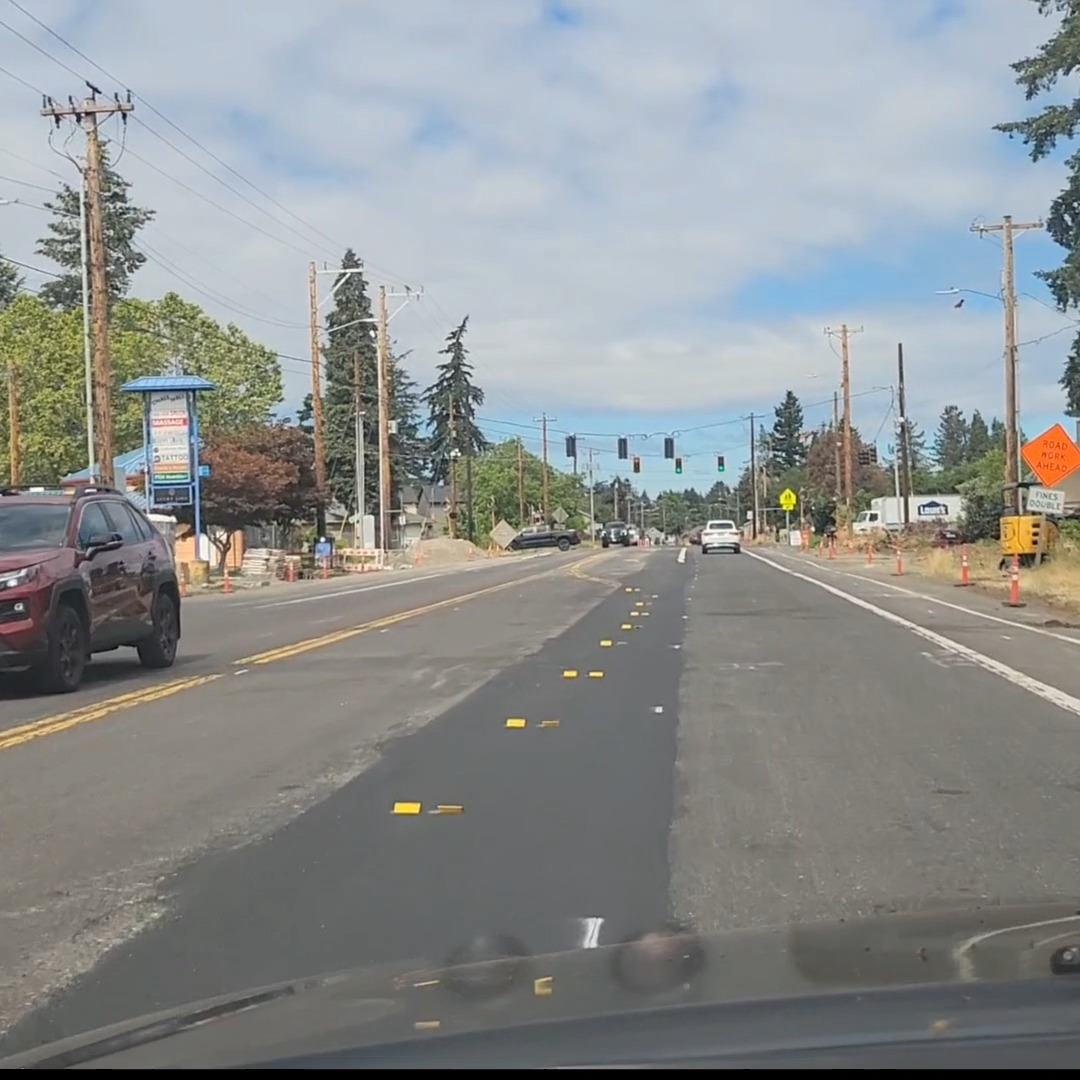car: (0, 487, 185, 698), (508, 523, 581, 551), (698, 520, 741, 554), (597, 520, 638, 548), (931, 528, 965, 548), (686, 527, 704, 545)
crosswalk-sign: (778, 487, 797, 511)
delineator: (1001, 556, 1025, 608), (953, 546, 975, 586), (890, 542, 906, 576), (865, 540, 876, 566), (411, 540, 422, 565), (318, 556, 330, 578), (826, 535, 836, 559), (799, 529, 808, 552), (1010, 552, 1020, 572), (286, 561, 295, 581), (844, 533, 854, 551), (814, 534, 821, 555), (467, 543, 475, 560), (484, 543, 492, 557)
